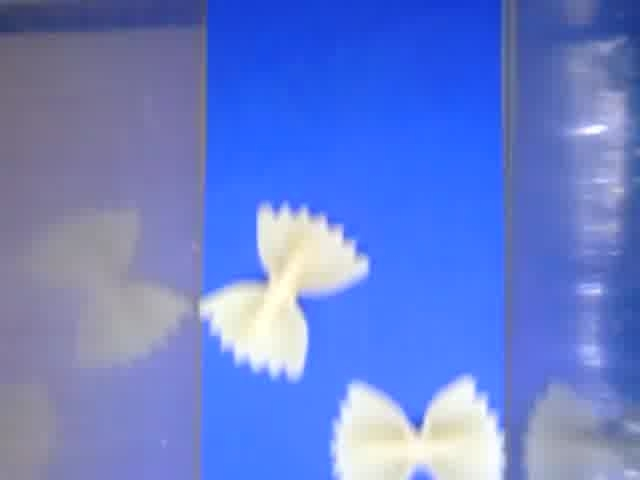farfalle: (200, 202, 372, 383), (331, 373, 506, 480)
